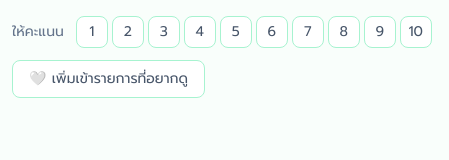
Scenario: API error แสดงข้อความและไม่เปลี่ยนสถานะหัวใจ
The image size is (449, 160).
Click the button "🤍 เพิ่มเข้ารายการที่อยากดู": (108, 79) [12,60,205,98]
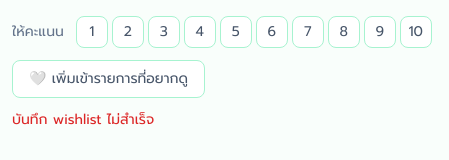
Check: the message reads "บันทึก wishlist ไม่สำเร็จ", box [12,109,154,130]
